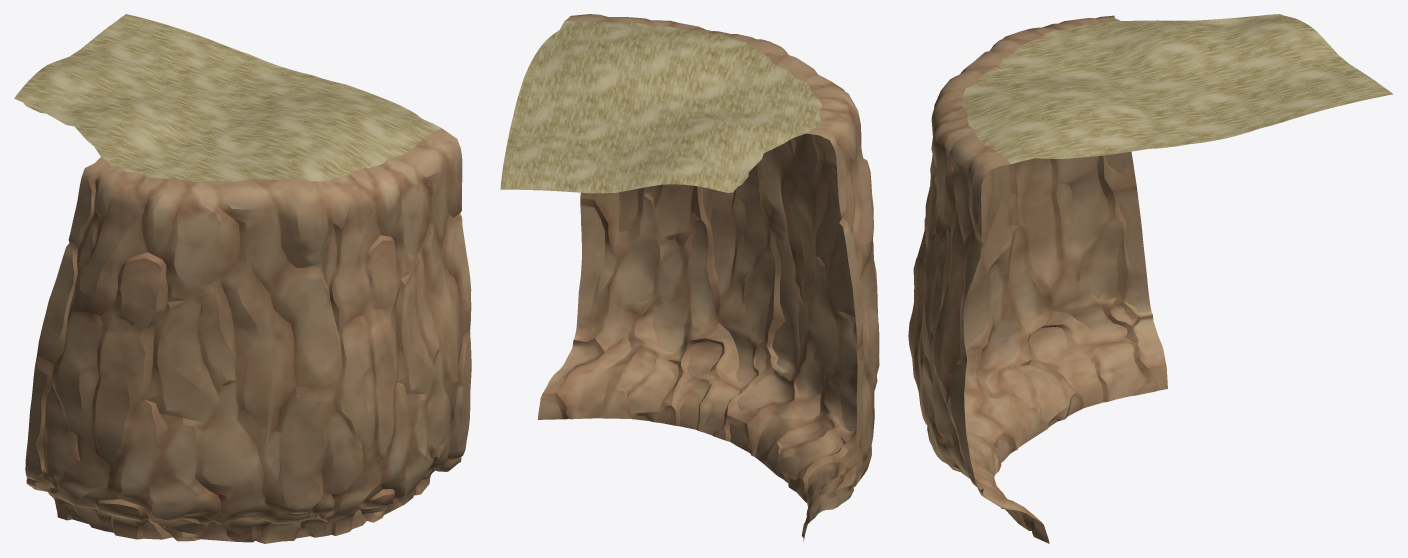
File: SM_ENV_KNFRST_Cliff_Ib.FBX
3 views of the same model, side by side, from view 1: azimuth 30°, elevation 25°; view 2: azimuth 150°, elevation 25°; view 3: azimuth 270°, elevation 25° (orthographic). The views are drawn at different scales.
Visible parts, largest first — view 1: SM_ENV_KNFRST_Cliff_Ib; view 2: SM_ENV_KNFRST_Cliff_Ib; view 3: SM_ENV_KNFRST_Cliff_Ib.
Boxes of the visible parts, left/top/right/bottom form: SM_ENV_KNFRST_Cliff_Ib: left=14, top=14, right=471, bottom=543; SM_ENV_KNFRST_Cliff_Ib: left=500, top=14, right=879, bottom=541; SM_ENV_KNFRST_Cliff_Ib: left=908, top=14, right=1392, bottom=543.
Bounding box in the file's own units: 2898 × 3017 × 3379.
